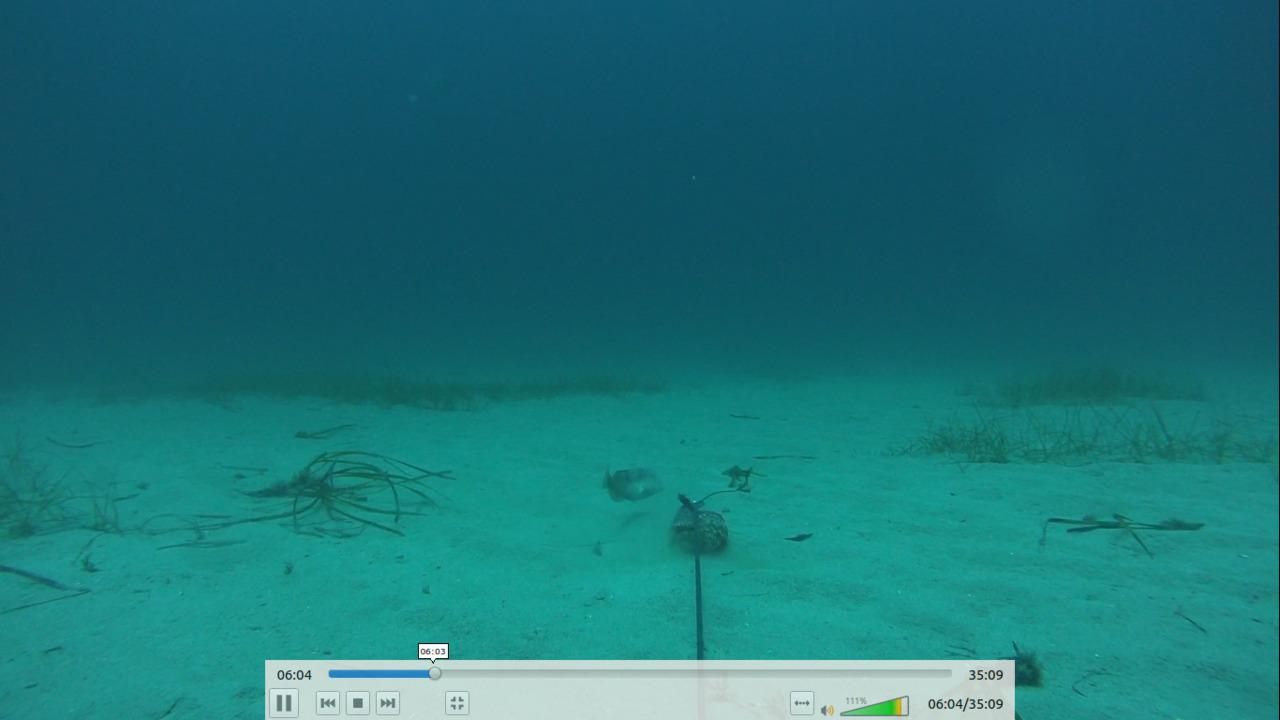raor: (591, 459, 671, 508)
